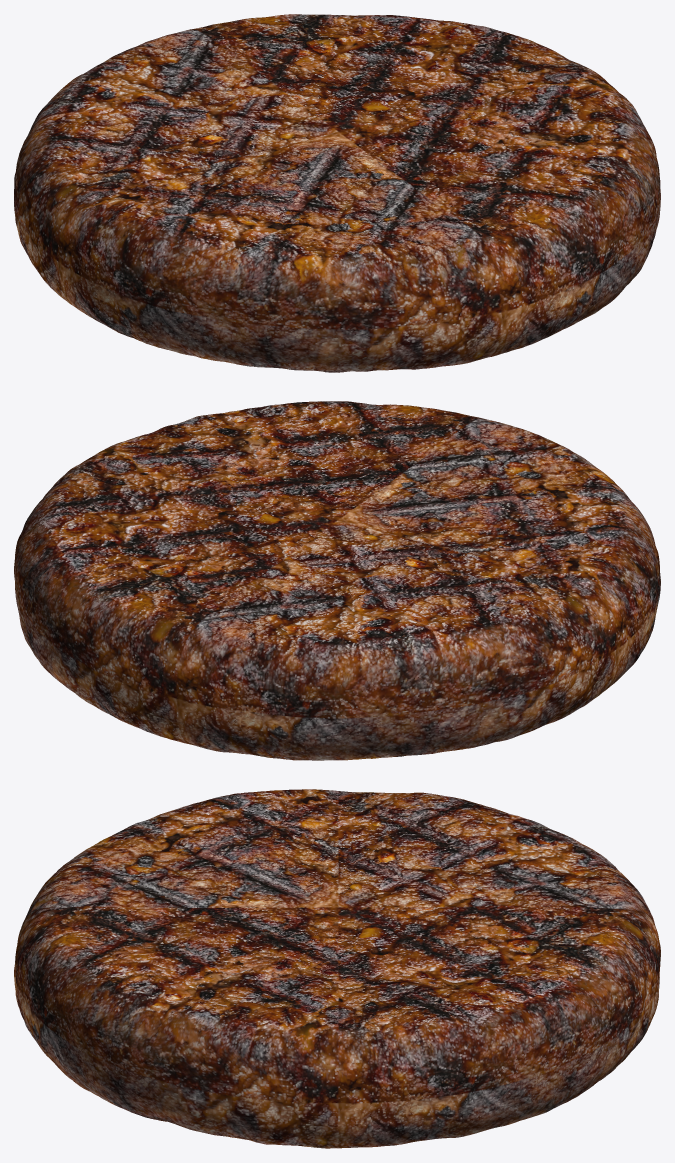
The model's file is patty.glb.
3 renders of one model, top to bottom at view 1: azimuth 30°, elevation 25°; view 2: azimuth 150°, elevation 25°; view 3: azimuth 270°, elevation 25°, orthographic.
Parts seen in each view (by area): view 1: Cylinder; view 2: Cylinder; view 3: Cylinder.
Boxes of the visible parts, bbox=[...] form: Cylinder: bbox=[14, 14, 660, 372]; Cylinder: bbox=[14, 401, 660, 760]; Cylinder: bbox=[14, 789, 660, 1148].
Size of the model in its own units: 2 by 0.437 by 2.01.
Materials: 1 (1 with a texture image).
